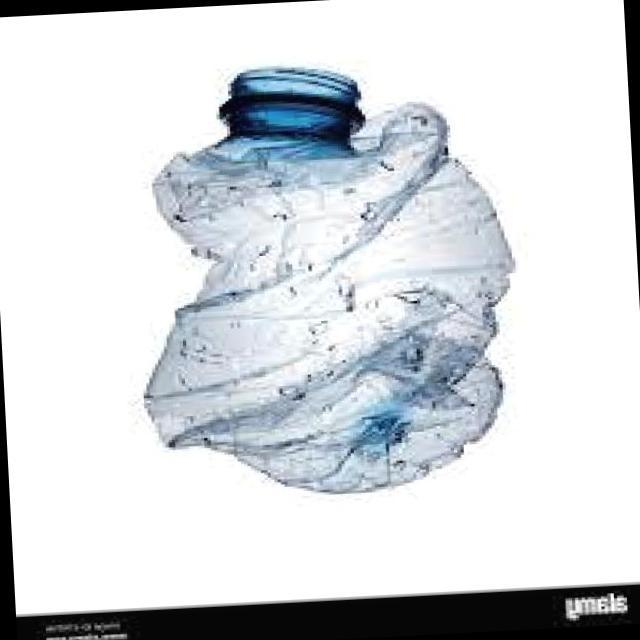defected: (113, 39, 539, 502)
